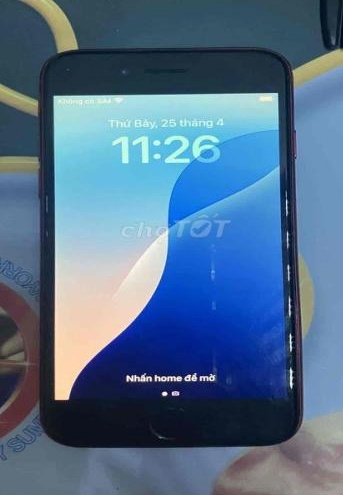scratch: (276, 184, 293, 219), (277, 226, 295, 250), (282, 294, 298, 321), (277, 258, 294, 283), (287, 362, 300, 387), (284, 329, 295, 357)
